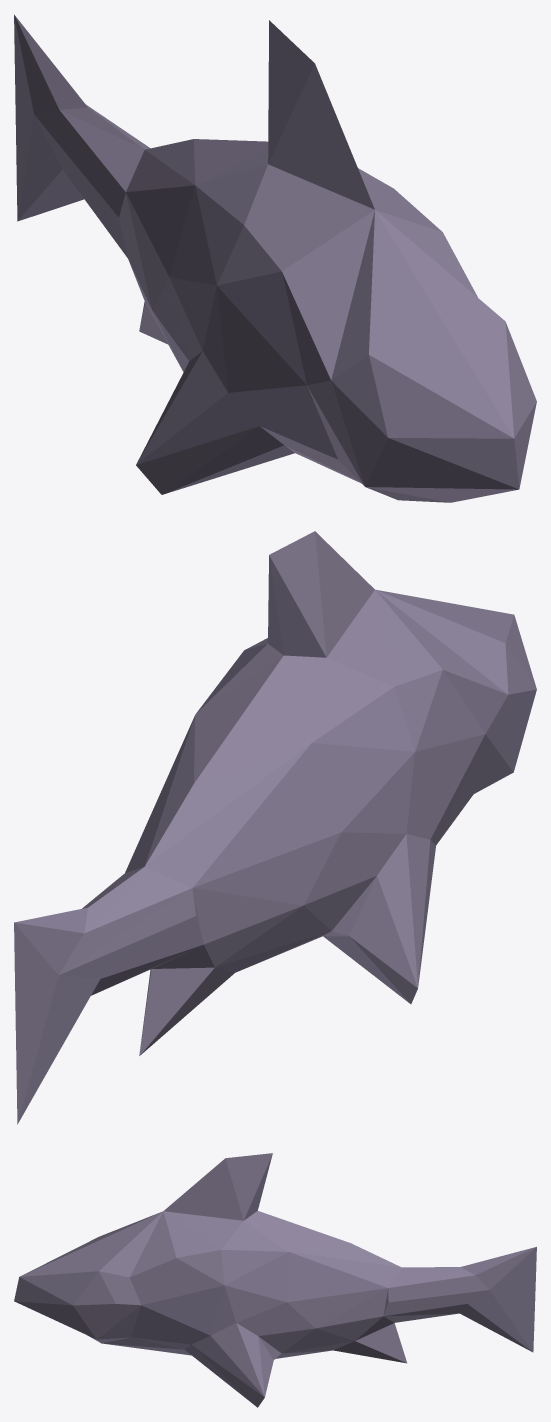
File: Fish_02.fbx
3 renders of one model, top to bottom at view 1: azimuth 30°, elevation 25°; view 2: azimuth 150°, elevation 25°; view 3: azimuth 270°, elevation 25°, orthographic. The views are drawn at different scales.
Parts seen in each view (by area): view 1: Fish_02; view 2: Fish_02; view 3: Fish_02.
Boxes of the visible parts, x1,y1,x2,y2 form: Fish_02: (14, 14, 536, 502); Fish_02: (14, 531, 536, 1124); Fish_02: (14, 1153, 536, 1407).
Bounding box in the file's own units: 70.87 × 104 × 220.
